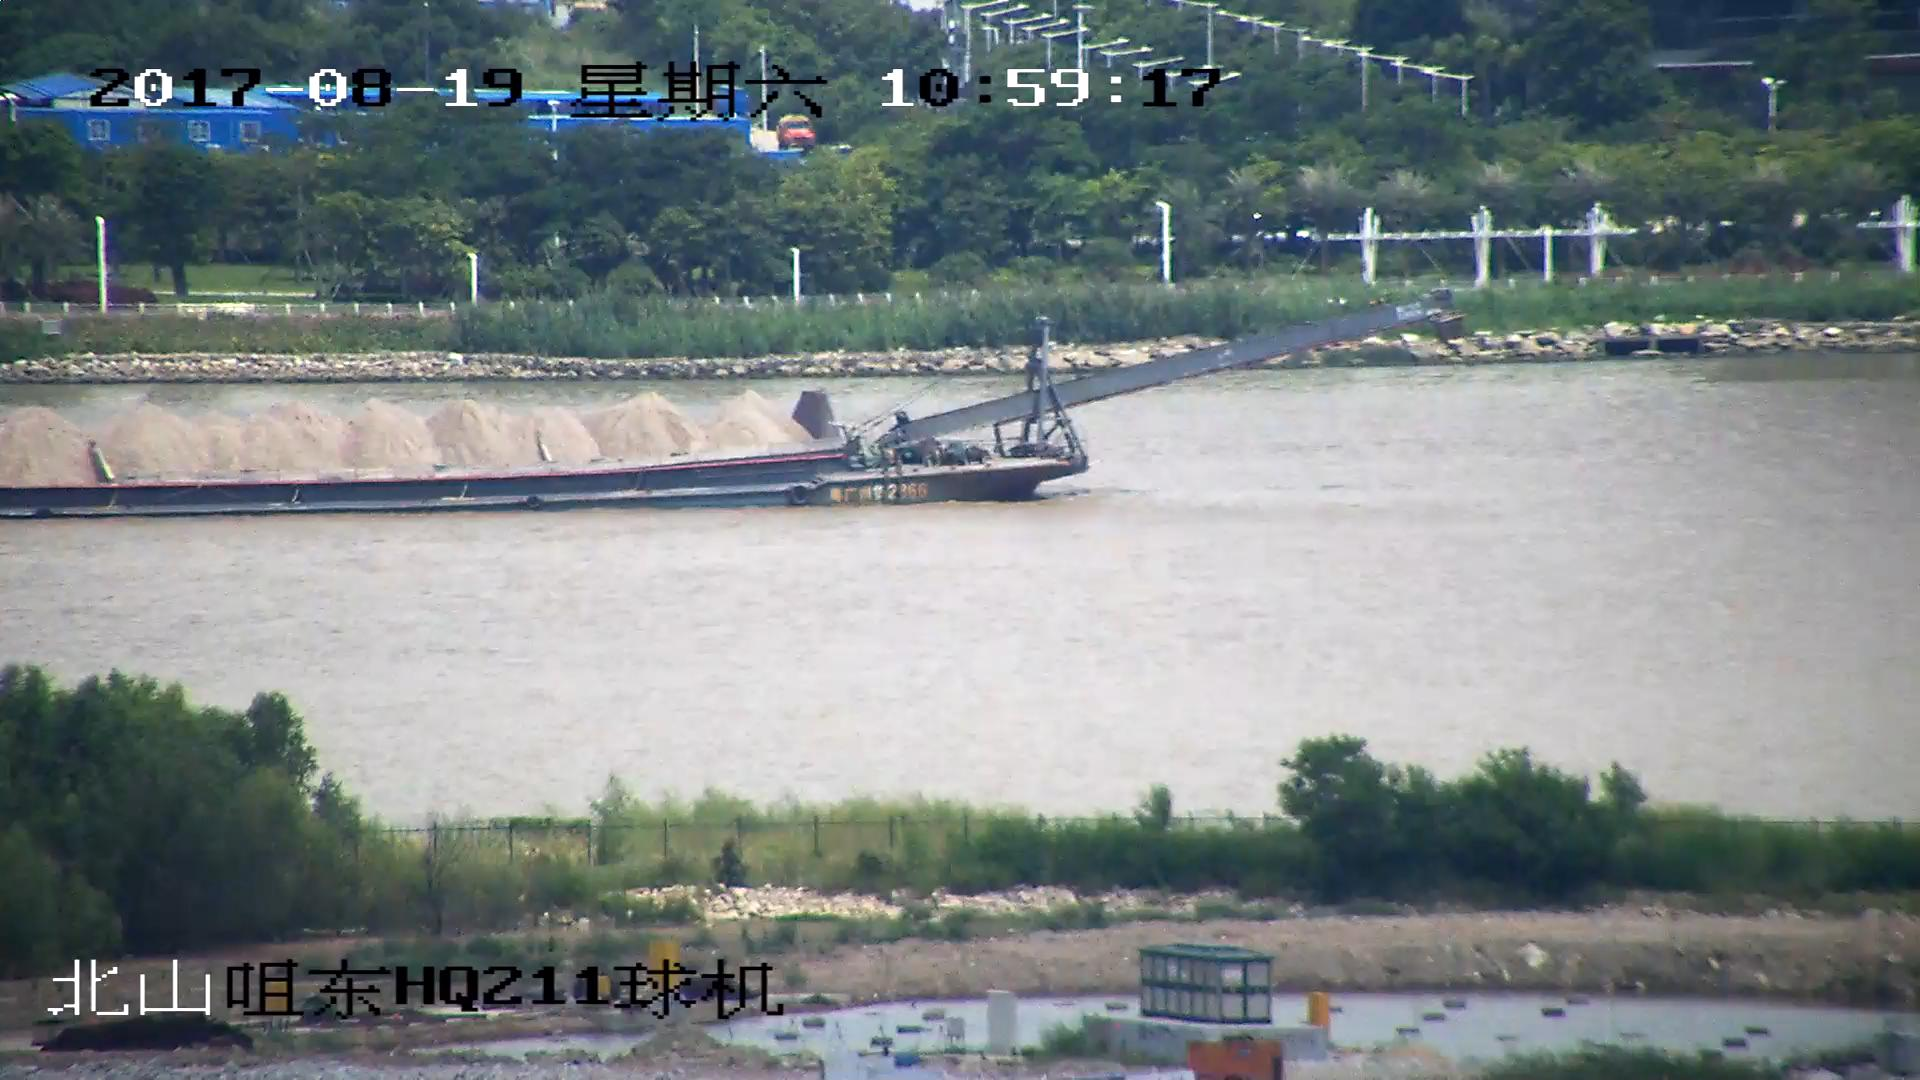ore carrier: (1, 299, 1449, 517)
